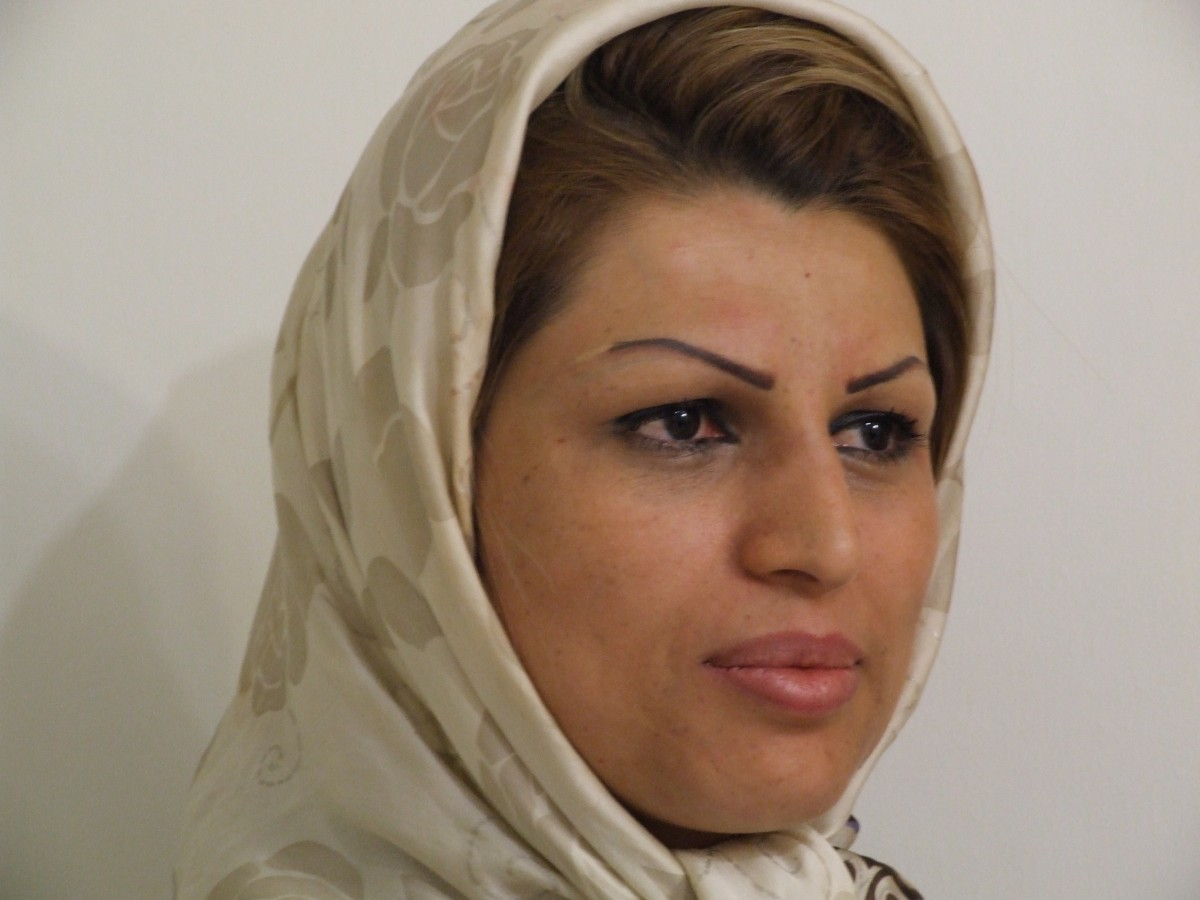neo: (771, 332, 812, 398), (581, 302, 636, 336), (549, 643, 585, 691), (791, 262, 835, 296), (812, 740, 848, 770), (513, 461, 545, 494), (732, 605, 758, 636), (545, 432, 575, 453)
occhiaia: (585, 444, 742, 506), (841, 456, 928, 510)
